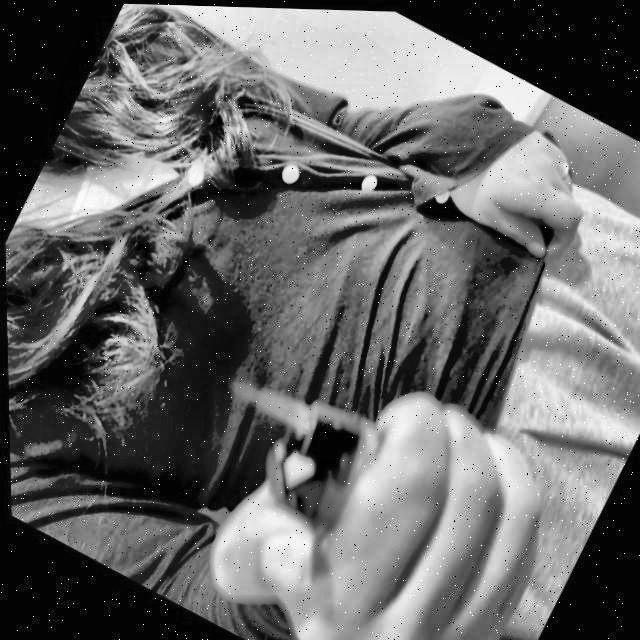Fire: (228, 366, 321, 436)
